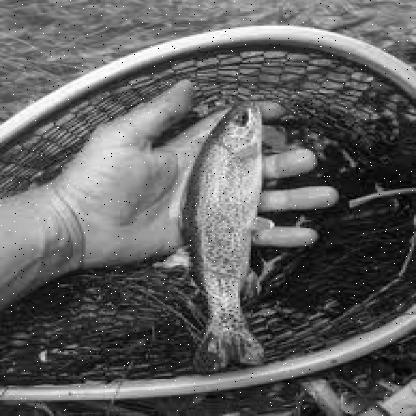fish: (157, 97, 265, 367)
